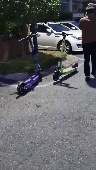beam: (13, 30, 47, 97)
gcooter: (51, 30, 82, 83)
